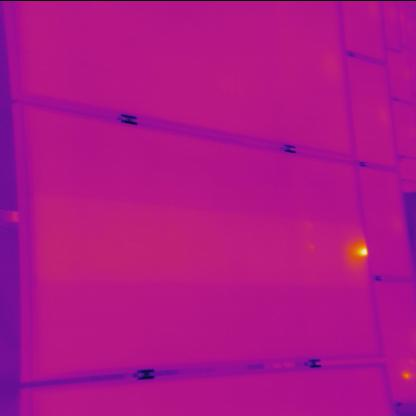hotspot: (354, 238, 372, 259)
